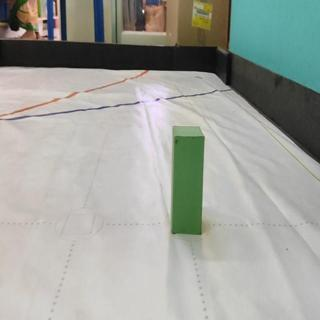greenbox: (171, 125, 206, 235)
